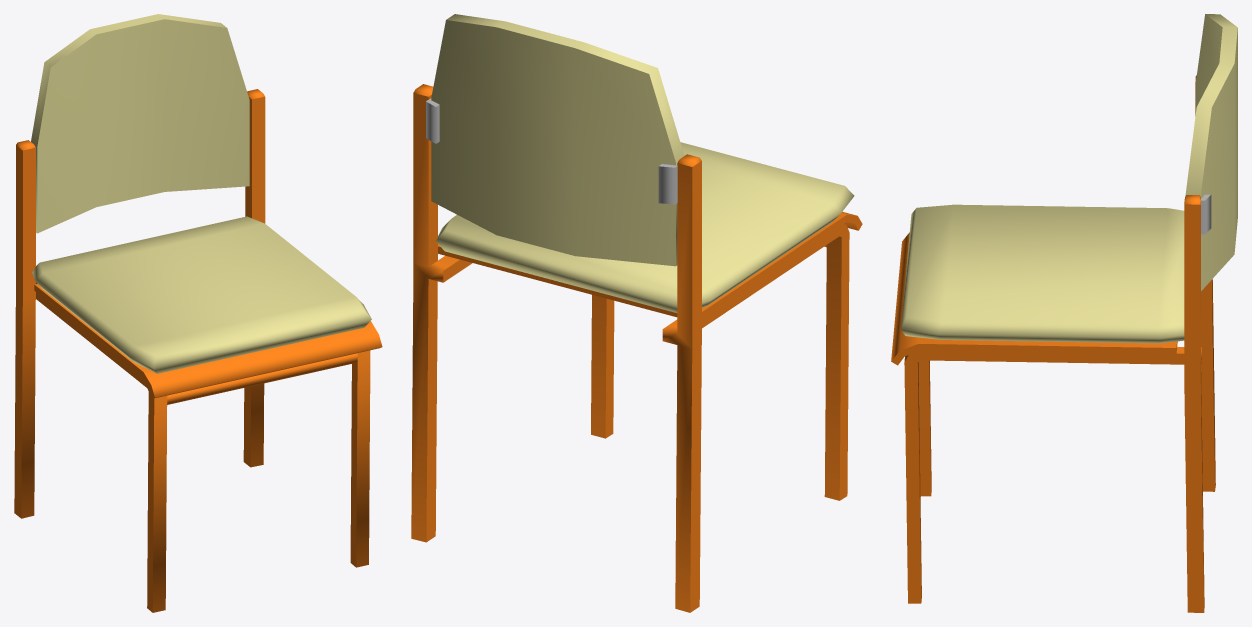
File: chair_02.fbx
3 renders of one model, left to right at view 1: azimuth 30°, elevation 25°; view 2: azimuth 150°, elevation 25°; view 3: azimuth 270°, elevation 25°, orthographic. The views are drawn at different scales.
Visible parts, largest first — view 1: chair_02; view 2: chair_02; view 3: chair_02.
Boxes of the visible parts, left/top/right/bottom form: chair_02: left=14, top=14, right=382, bottom=612; chair_02: left=411, top=14, right=862, bottom=612; chair_02: left=891, top=14, right=1237, bottom=612.
Size of the model in its own units: 339 by 611 by 379.
